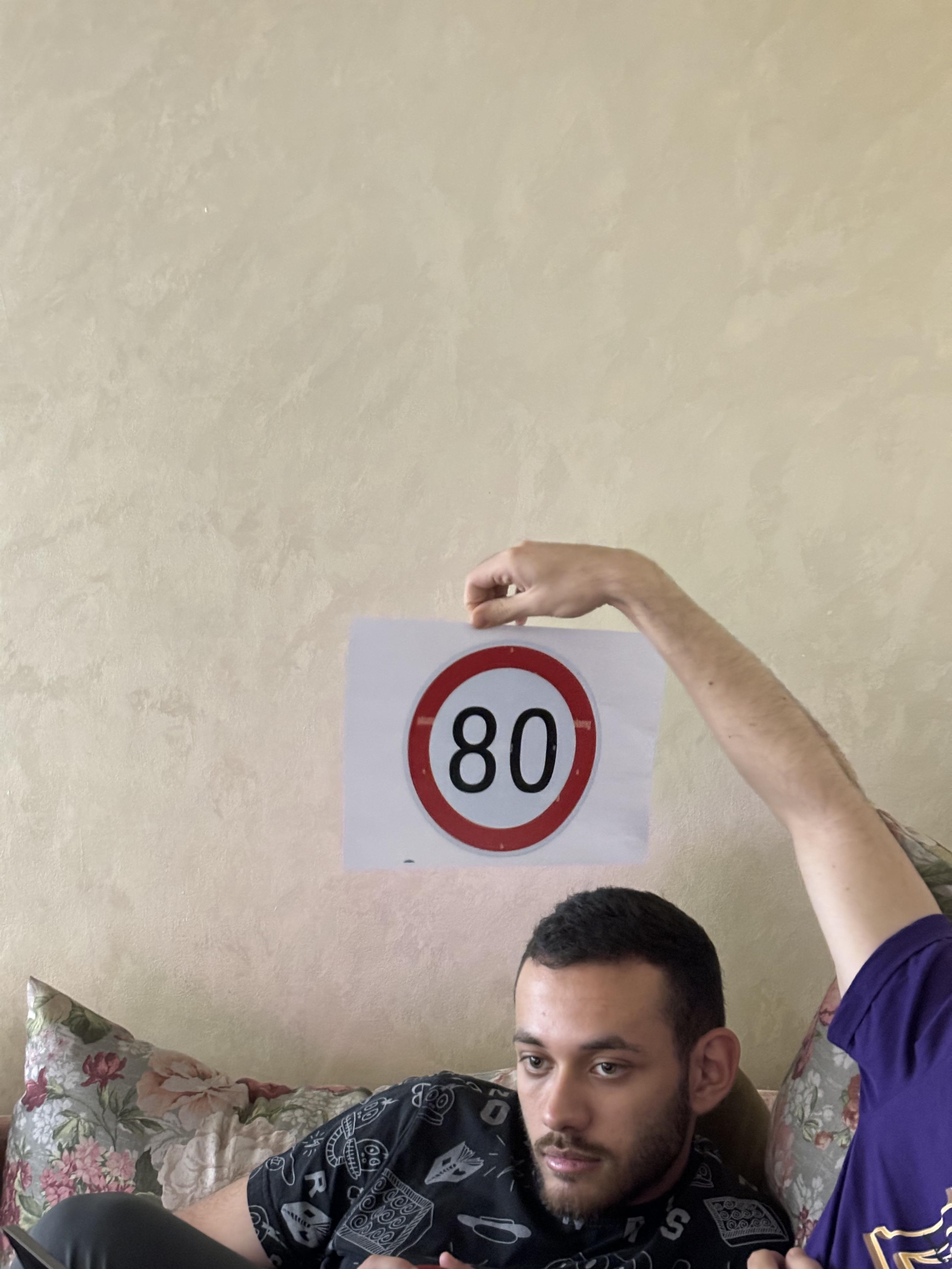80-Speed: (397, 630, 609, 863)
